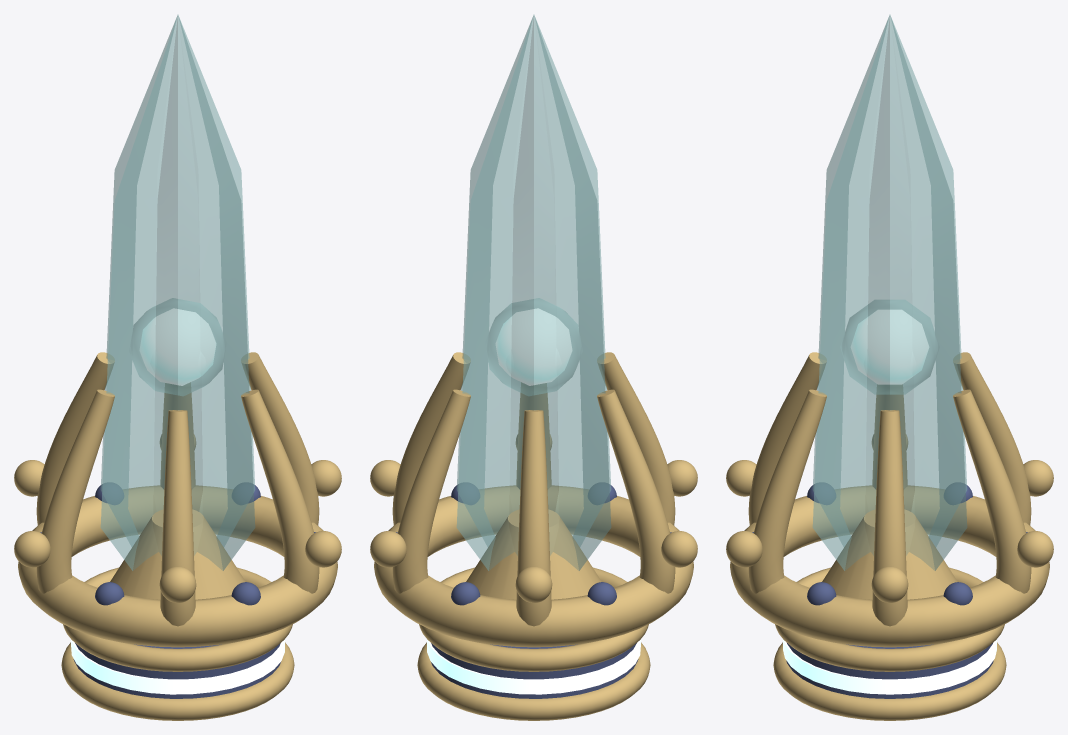
Rendered from a-prize-star-prism-for-a-stylized-magical.glb.
The picture shows the model from 3 angles, left to right: view 1: azimuth 30°, elevation 25°; view 2: azimuth 150°, elevation 25°; view 3: azimuth 270°, elevation 25°; orthographic projection.
Visible parts, largest first — view 1: StarPrism; view 2: StarPrism; view 3: StarPrism.
Part boxes in pixels (x1=…): StarPrism: x1=14, y1=14, x2=341, y2=720; StarPrism: x1=370, y1=14, x2=697, y2=720; StarPrism: x1=726, y1=14, x2=1053, y2=720.
Bounding box in the file's own units: 1.02 × 2 × 0.8982.
